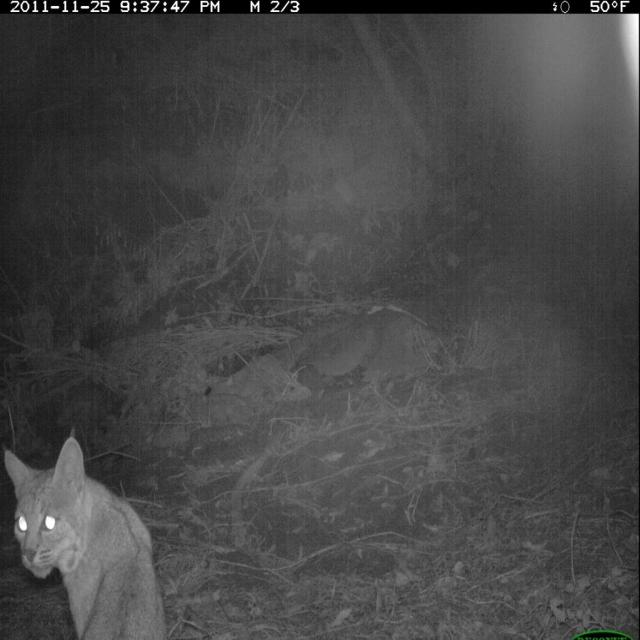bobcat: (8, 438, 172, 640)
